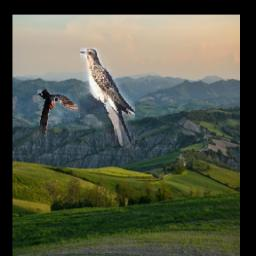Cuckoo: (80, 49, 135, 147)
Swallow: (37, 90, 78, 138)
